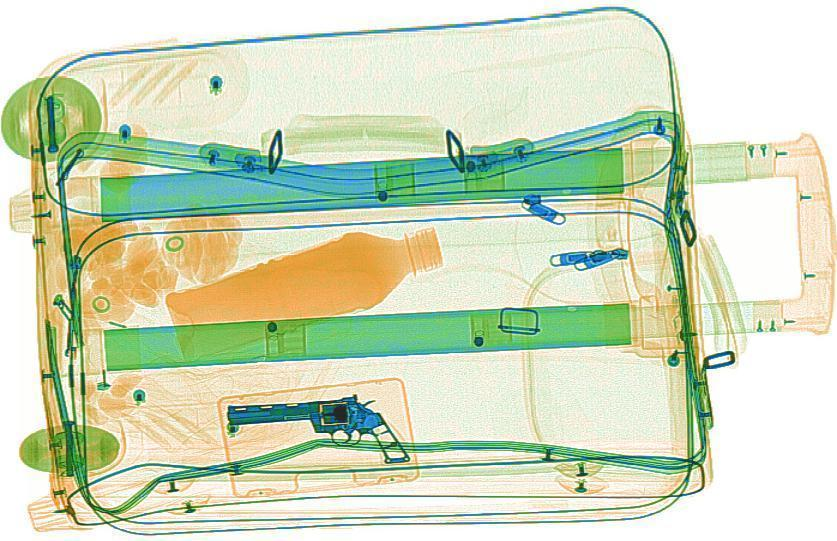Gun: (216, 391, 412, 473)
